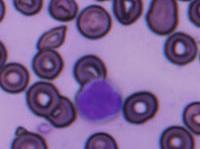L: (75, 76, 123, 122)
